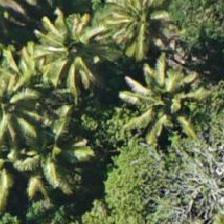coconut_tree: (113, 42, 203, 132), (0, 103, 89, 193), (21, 0, 111, 85), (93, 0, 183, 58), (0, 49, 47, 139)
